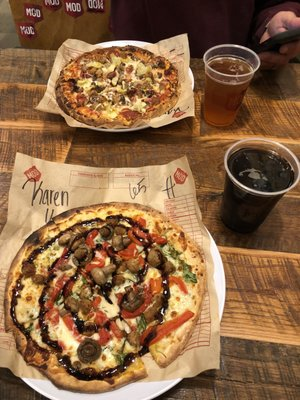pizza: (220, 138, 300, 235), (203, 44, 261, 127)
